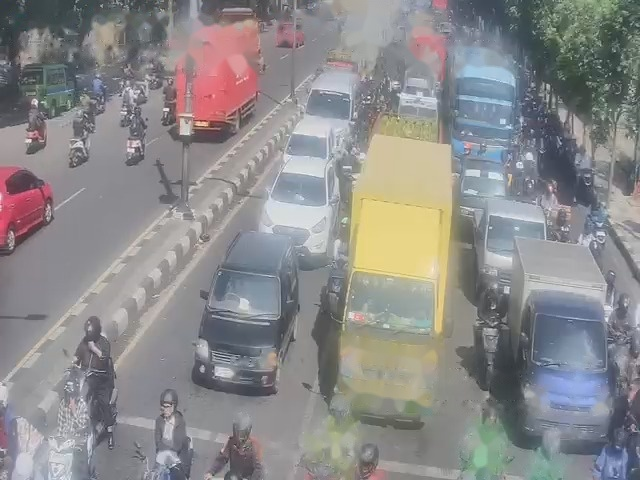Bis: (451, 47, 519, 157)
Mobil: (203, 227, 299, 389), (520, 245, 605, 410), (264, 155, 335, 251), (0, 169, 50, 252), (280, 114, 339, 166)
Motor: (39, 434, 76, 478), (159, 449, 193, 480), (557, 203, 571, 241)
Truk: (353, 113, 455, 418)
